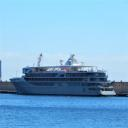cruises: (10, 53, 118, 99)
